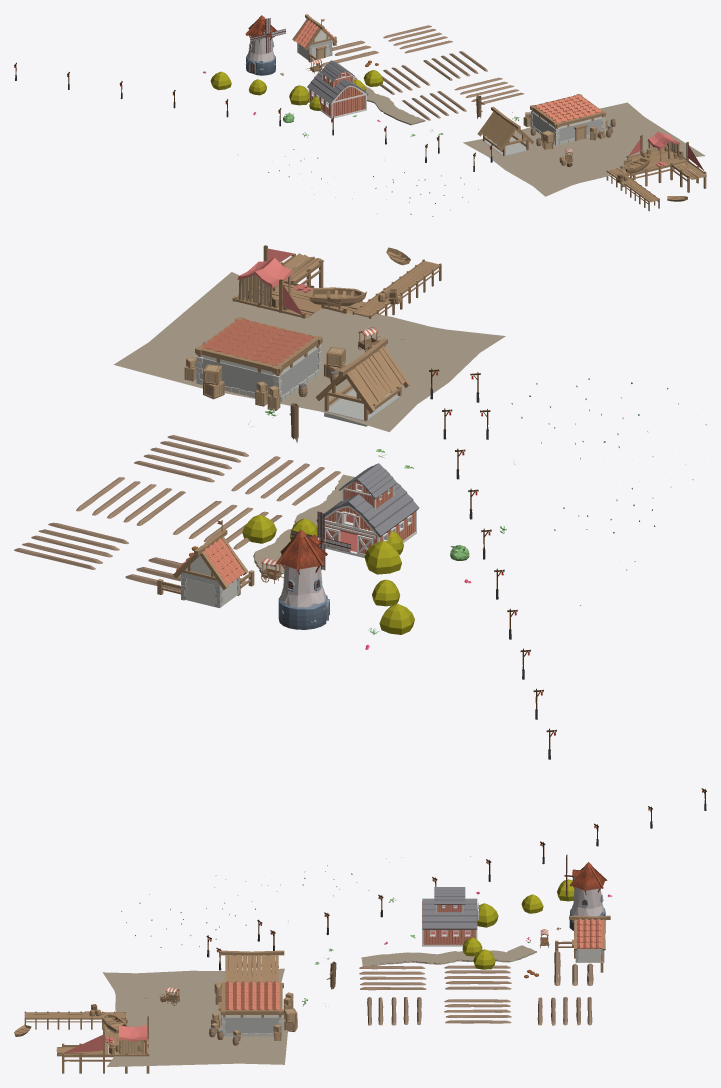
The model's file is chunk_2_0.glb.
The picture shows the model from 3 angles, top to bottom: view 1: azimuth 30°, elevation 25°; view 2: azimuth 150°, elevation 25°; view 3: azimuth 270°, elevation 25°; orthographic projection. The views are drawn at different scales.
Parts seen in each view (by area): view 1: Batched_chunk_2_0, wind_fan.001; view 2: Batched_chunk_2_0; view 3: Batched_chunk_2_0.
Boxes of the visible parts, x1,y1,x2,y2 form: Batched_chunk_2_0: (14, 14, 706, 216); wind_fan.001: (250, 18, 285, 52); Batched_chunk_2_0: (14, 245, 706, 759); Batched_chunk_2_0: (14, 788, 706, 1073).
Size of the model in its own units: 102 by 15.75 by 115.
38 materials, 4 textured.
